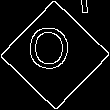O_S: (33, 29, 77, 81)
